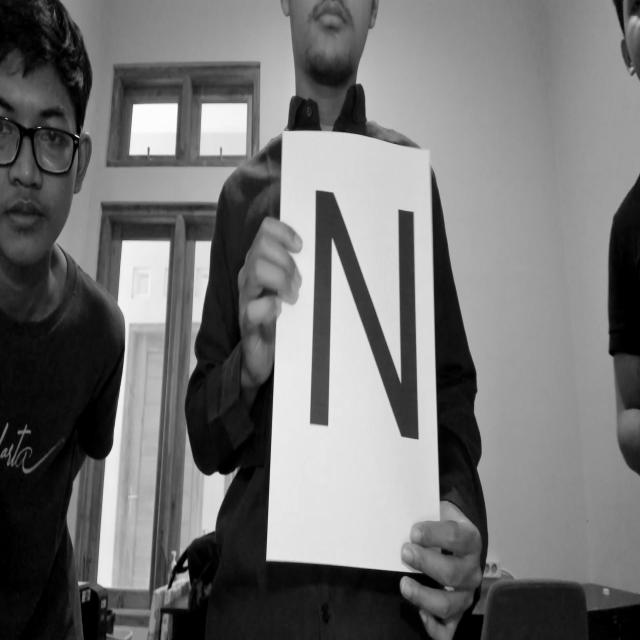n: (279, 174, 446, 482)
